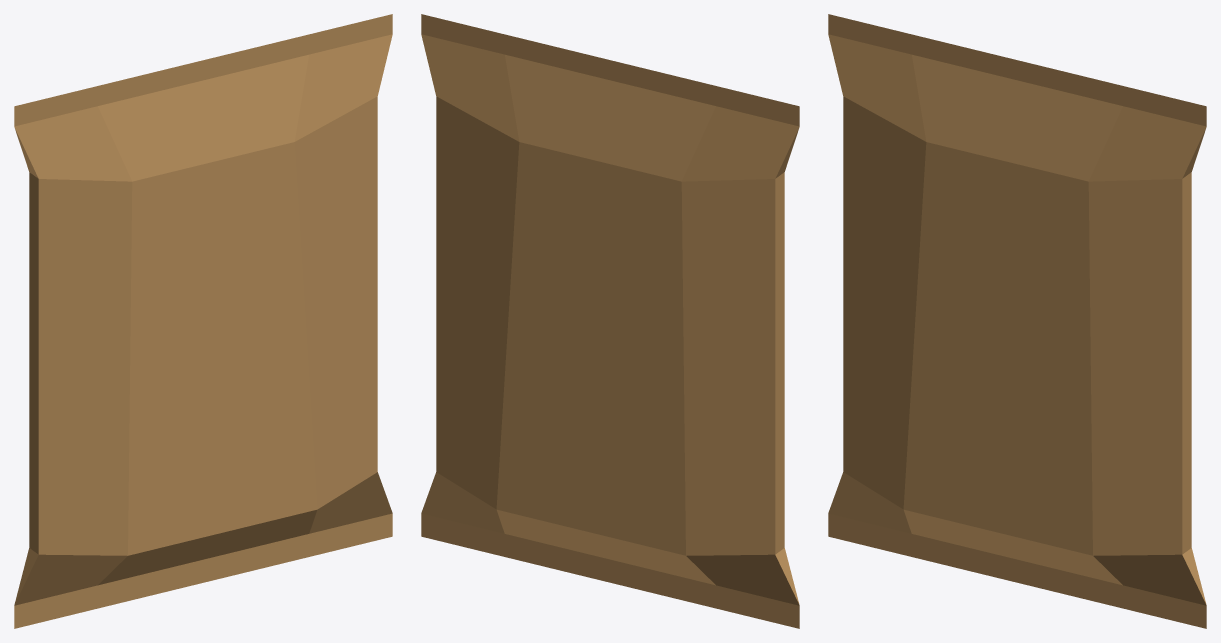
File: seed_packet.glb
3 views of the same model, side by side, from view 1: azimuth 30°, elevation 25°; view 2: azimuth 150°, elevation 25°; view 3: azimuth 330°, elevation 25° (orthographic).
Visible parts, largest first — view 1: Packet; view 2: Packet; view 3: Packet.
Part boxes in pixels (<box>): Packet: <box>14,14,392,628</box>; Packet: <box>421,14,799,628</box>; Packet: <box>828,14,1206,628</box>.
Bounding box in the file's own units: 0.15 × 0.1979 × 0.0264.
1 material, 1 textured.
